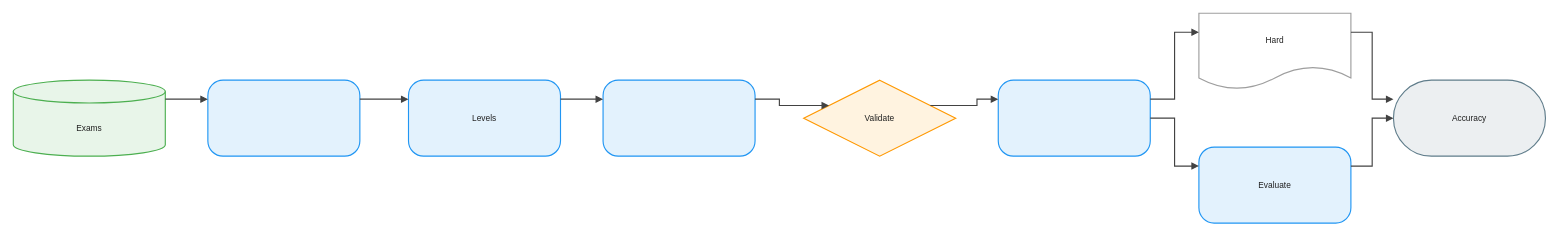
Some shapes in this 1560 by 237 pixel diagram are drawn without their labels. Each missing label, with the box of its shape:
Format: (602, 79, 755, 156)
Split: (997, 79, 1150, 156)
Subjects: (207, 79, 360, 156)
